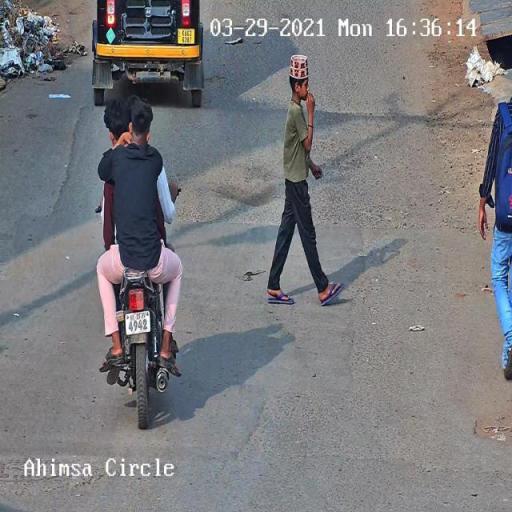tripple riding: (91, 82, 183, 264)
